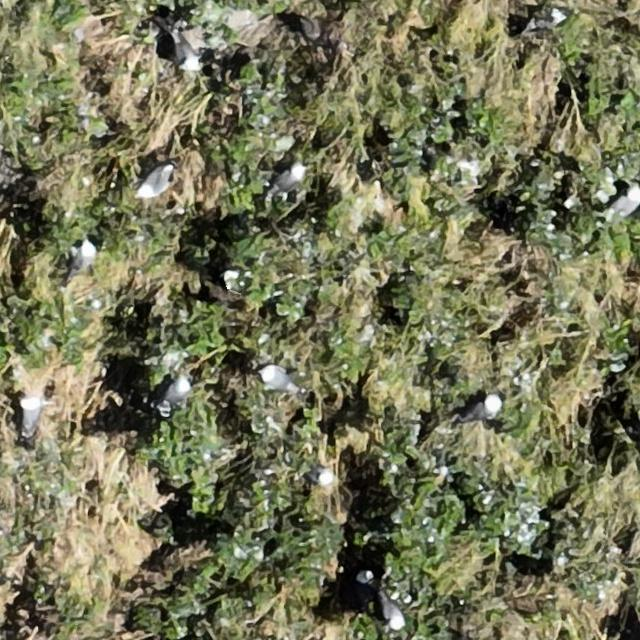umineko: (140, 166, 173, 195), (275, 163, 307, 190), (260, 367, 295, 391), (611, 188, 639, 216), (162, 377, 190, 404), (176, 35, 198, 69), (73, 242, 96, 274), (21, 398, 41, 434), (469, 396, 499, 418), (381, 598, 402, 629), (304, 466, 335, 484), (355, 570, 377, 591)
